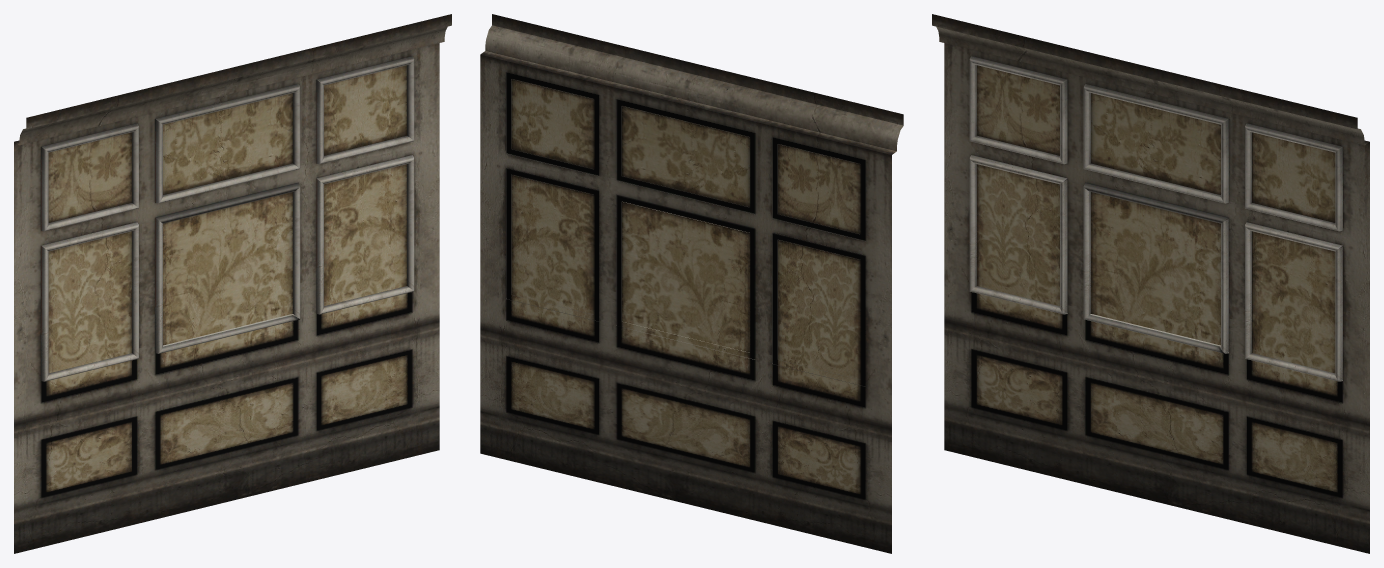
File: default_wood_panneling.DAE
The picture shows the model from 3 angles, left to right: view 1: azimuth 30°, elevation 25°; view 2: azimuth 150°, elevation 25°; view 3: azimuth 330°, elevation 25°; orthographic projection. The views are drawn at different scales.
Visible parts, largest first — view 1: mansionbase_default007; view 2: mansionbase_default007; view 3: mansionbase_default007.
Part boxes in pixels (x1=…): mansionbase_default007: x1=14, y1=14, x2=451, y2=553; mansionbase_default007: x1=480, y1=14, x2=903, y2=553; mansionbase_default007: x1=932, y1=14, x2=1369, y2=553.
Bounding box in the file's own units: 4 × 4 × 0.2045.
